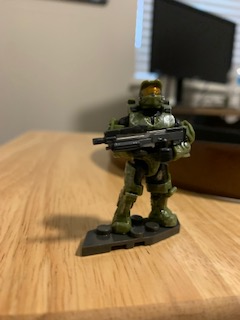chief: (106, 78, 195, 236)
rifle: (91, 123, 188, 155)
spartan: (104, 76, 193, 234)
